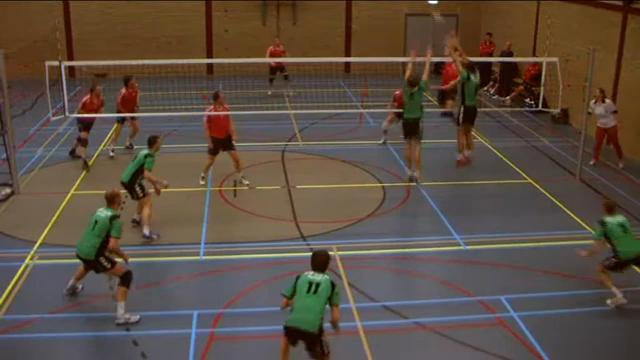Attack: (435, 33, 461, 129)
Block: (391, 42, 432, 192), (443, 35, 484, 166)
Player: (64, 189, 139, 324), (578, 200, 639, 306), (281, 250, 339, 359), (120, 135, 168, 240), (199, 91, 249, 185), (69, 117, 95, 169), (379, 89, 403, 144), (109, 115, 138, 157), (268, 61, 289, 94)
ball: (432, 9, 445, 26)
